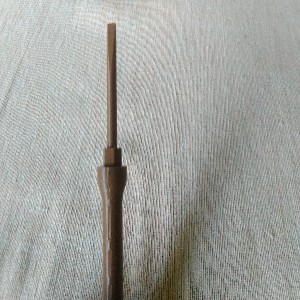obeng: (96, 21, 128, 300)
